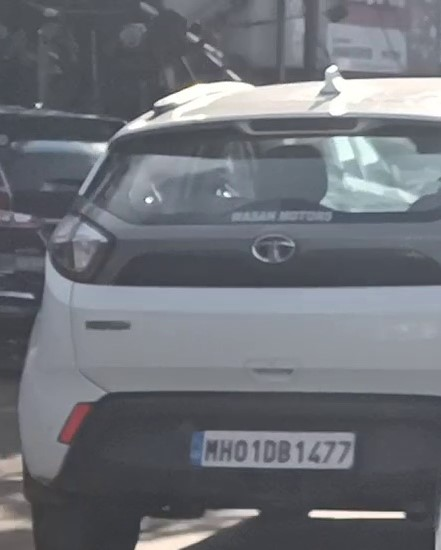MH01DB1477: (189, 429, 354, 469)
